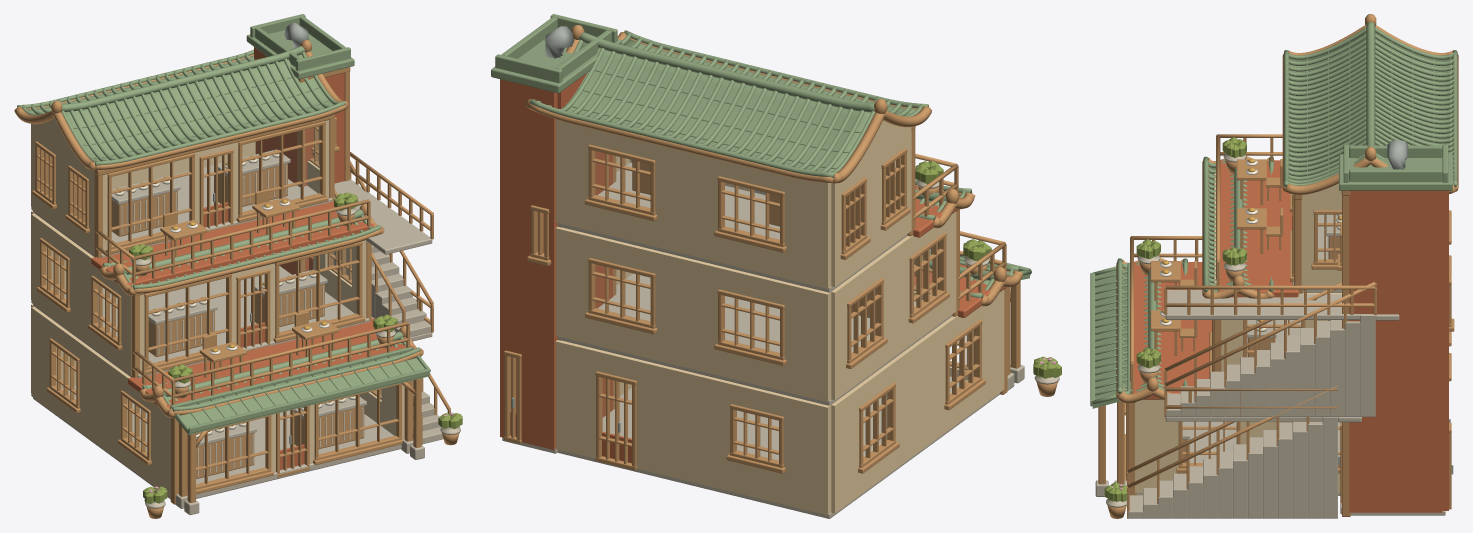
3 renders of one model, left to right at view 1: azimuth 30°, elevation 25°; view 2: azimuth 150°, elevation 25°; view 3: azimuth 270°, elevation 25°, orthographic. The views are drawn at different scales.
Visible parts, largest first — view 1: SM_06_04_门窗楼梯, SM_06_01_建筑墙体, SM_06_02_曲面屋顶, SM_06_06_景观设施, SM_06_03_木构回廊, SM_06_05_景观植物; view 2: SM_06_01_建筑墙体, SM_06_02_曲面屋顶, SM_06_04_门窗楼梯, SM_06_03_木构回廊, SM_06_05_景观植物, SM_06_06_景观设施; view 3: SM_06_01_建筑墙体, SM_06_04_门窗楼梯, SM_06_02_曲面屋顶, SM_06_06_景观设施, SM_06_03_木构回廊, SM_06_05_景观植物.
Boxes of the visible parts, x1=… form: SM_06_04_门窗楼梯: x1=32, y1=117, x2=450, y2=494; SM_06_01_建筑墙体: x1=31, y1=47, x2=413, y2=499; SM_06_02_曲面屋顶: x1=14, y1=14, x2=430, y2=434; SM_06_06_景观设施: x1=111, y1=23, x2=366, y2=478; SM_06_03_木构回廊: x1=94, y1=67, x2=424, y2=515; SM_06_05_景观植物: x1=129, y1=192, x2=462, y2=518; SM_06_01_建筑墙体: x1=500, y1=73, x2=1011, y2=518; SM_06_02_曲面屋顶: x1=491, y1=14, x2=1031, y2=306; SM_06_04_门窗楼梯: x1=504, y1=144, x2=1006, y2=473; SM_06_03_木构回廊: x1=613, y1=126, x2=1024, y2=409; SM_06_05_景观植物: x1=915, y1=160, x2=1061, y2=396; SM_06_06_景观设施: x1=545, y1=26, x2=929, y2=317; SM_06_01_建筑墙体: x1=1132, y1=160, x2=1448, y2=515; SM_06_04_门窗楼梯: x1=1124, y1=134, x2=1454, y2=518; SM_06_02_曲面屋顶: x1=1090, y1=14, x2=1458, y2=408; SM_06_06_景观设施: x1=1150, y1=139, x2=1408, y2=462; SM_06_03_木构回廊: x1=1095, y1=174, x2=1350, y2=516; SM_06_05_景观植物: x1=1104, y1=137, x2=1246, y2=518.
Size of the model in its own units: 10.72 by 10.68 by 9.84.
